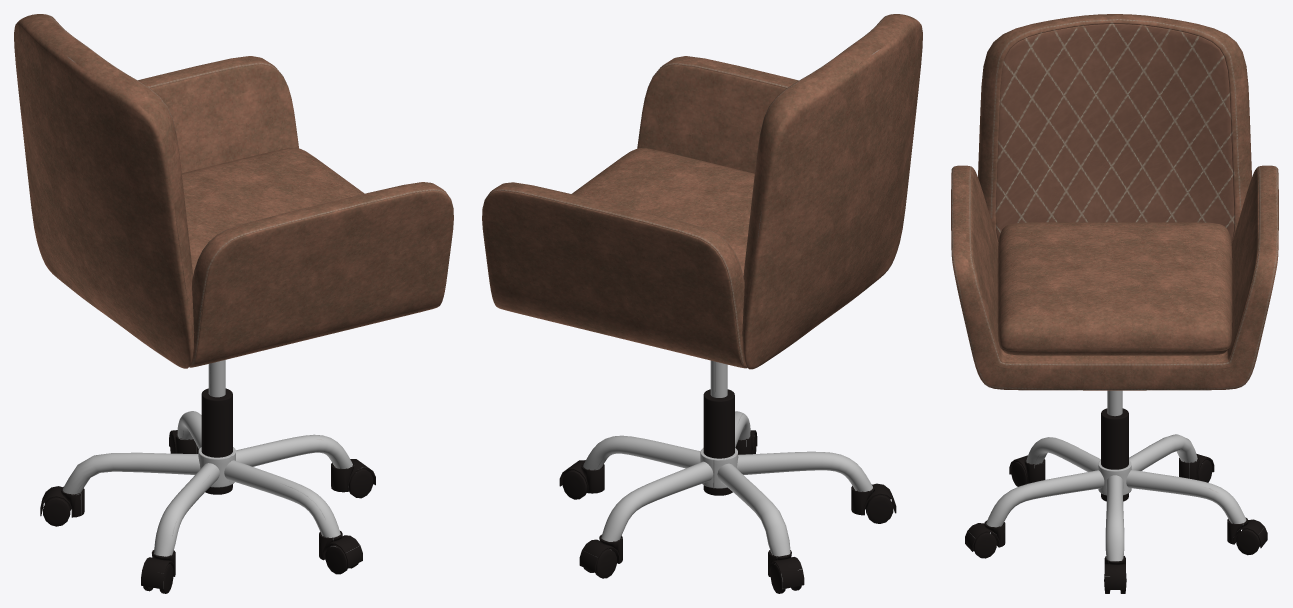
3 renders of one model, left to right at view 1: azimuth 30°, elevation 25°; view 2: azimuth 150°, elevation 25°; view 3: azimuth 270°, elevation 25°, orthographic. The views are drawn at different scales.
Visible parts, largest first — view 1: Cube.004; view 2: Cube.004; view 3: Cube.004.
Part boxes in pixels (<box>): Cube.004: <box>14,14,453,593</box>; Cube.004: <box>482,14,922,593</box>; Cube.004: <box>951,14,1278,593</box>.
Size of the model in its own units: 0.5597 by 0.8937 by 0.5806.
1 material, 1 textured.
